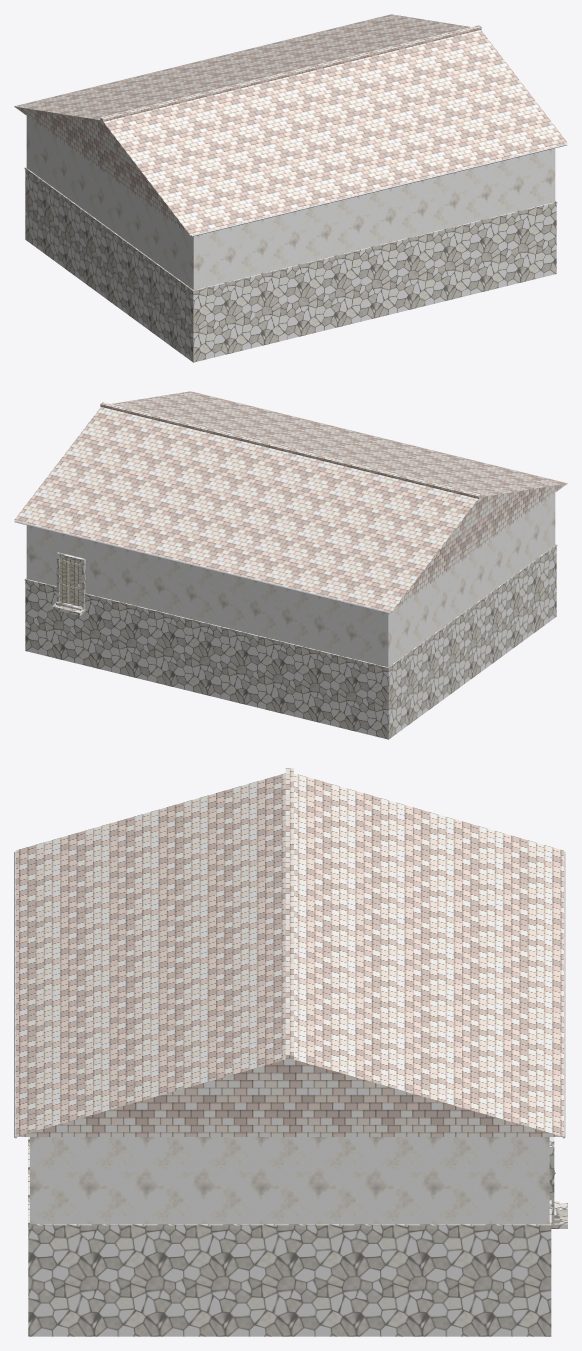
3 views of the same model, one above another, from view 1: azimuth 30°, elevation 25°; view 2: azimuth 150°, elevation 25°; view 3: azimuth 270°, elevation 25° (orthographic). The views are drawn at different scales.
Parts seen in each view (by area): view 1: b1088806798; view 2: b1088806798; view 3: b1088806798.
Boxes of the visible parts, x1,y1,x2,y2 form: b1088806798: (14,14,567,362); b1088806798: (14,391,567,739); b1088806798: (14,768,567,1336).
Bounding box in the file's own units: 16.56 × 7.71 × 13.5.
Materials: 11 (11 with a texture image).
